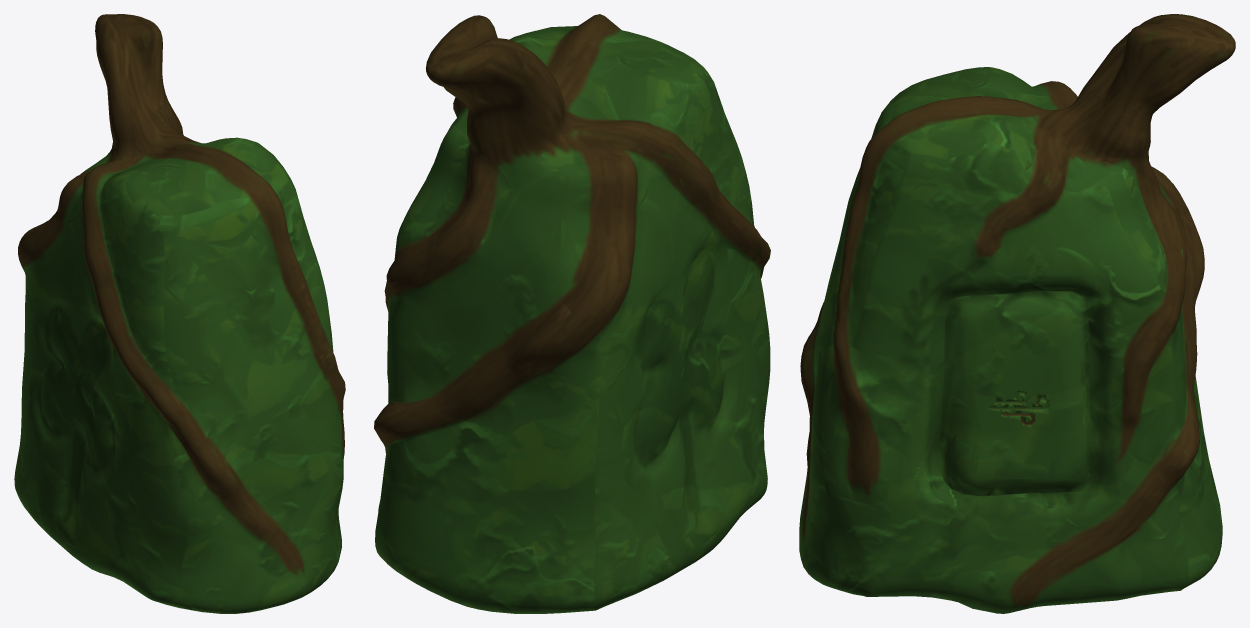
File: kaya1.fbx
3 views of the same model, side by side, from view 1: azimuth 30°, elevation 25°; view 2: azimuth 150°, elevation 25°; view 3: azimuth 270°, elevation 25° (orthographic). The views are drawn at different scales.
Parts seen in each view (by area): view 1: low.001; view 2: low.001; view 3: low.001.
Boxes of the visible parts, x1,y1,x2,y2 form: low.001: (14,14,345,613); low.001: (374,14,770,613); low.001: (799,14,1235,613).
Size of the model in its own units: 1.08 by 2.19 by 1.55.
